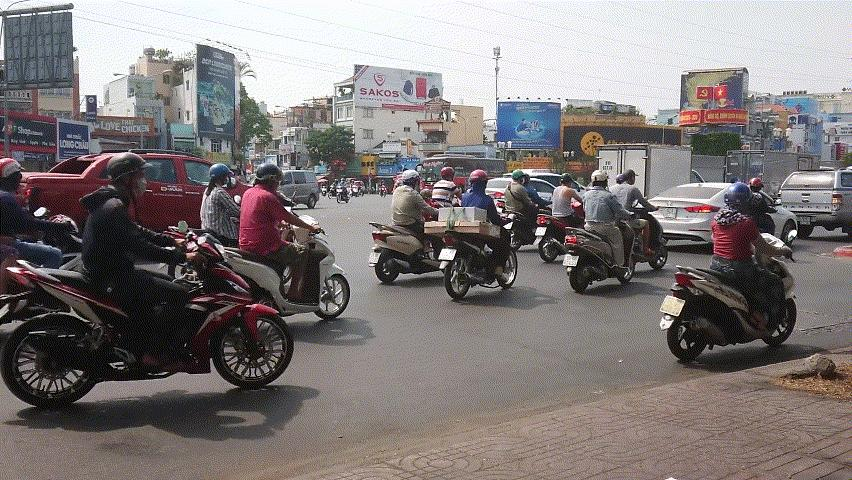driver: (0, 151, 296, 412), (658, 182, 799, 363), (225, 163, 351, 320), (423, 168, 519, 300), (562, 168, 642, 292), (368, 168, 445, 284), (533, 172, 582, 263)
helmet: (105, 150, 153, 199), (723, 181, 757, 217), (255, 162, 285, 194), (0, 157, 25, 194), (210, 163, 233, 185), (469, 169, 490, 190), (591, 170, 611, 189), (402, 169, 421, 189), (512, 168, 526, 185), (749, 177, 763, 193), (440, 167, 455, 181), (560, 172, 572, 188)
